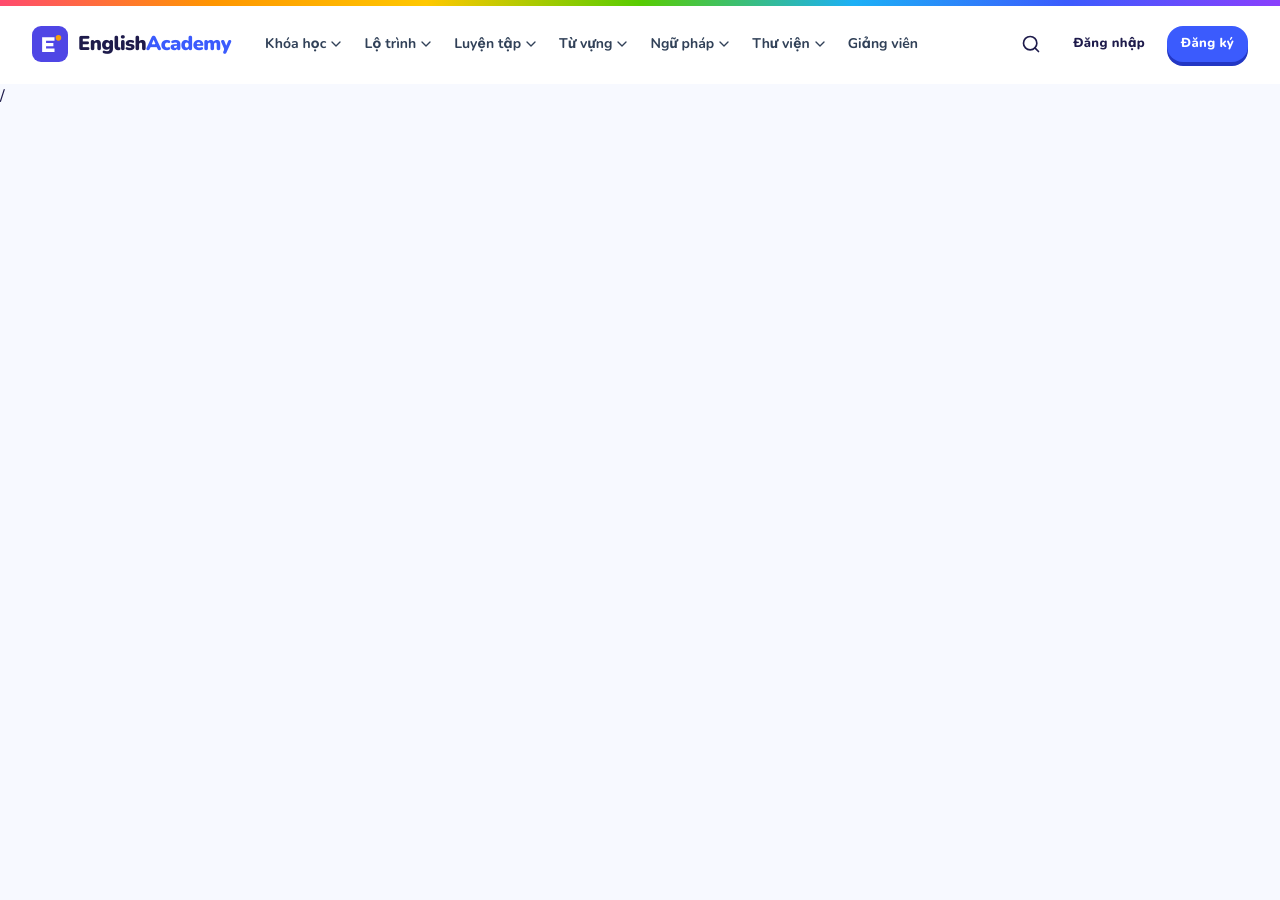
it: Header › đóng hộp tìm kiếm bằng Escape
Click the button named "Tìm kiếm": (1031, 44) [1011,24,1051,64]
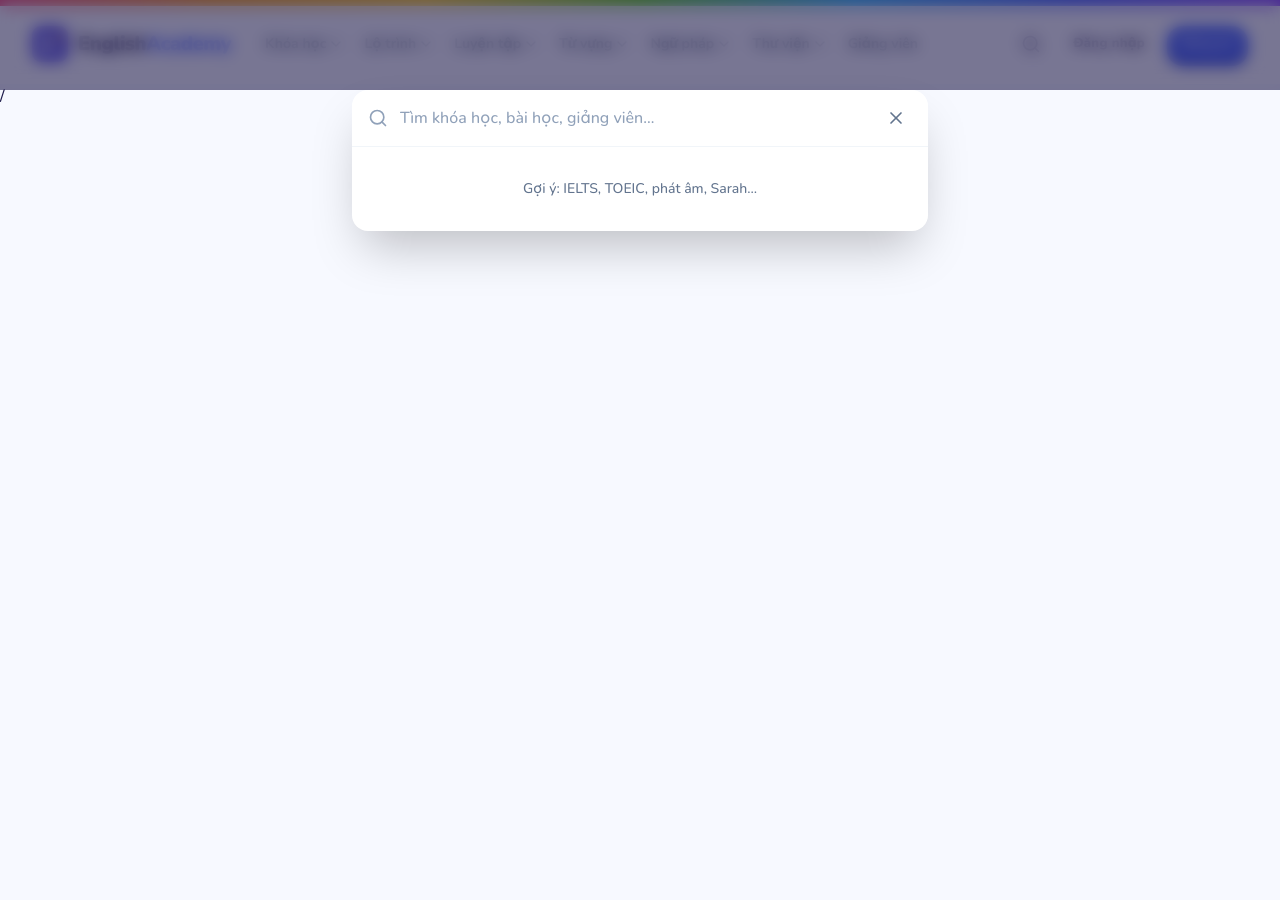
Check: the dialog is shown, box [352,90,928,231]
Press Escape
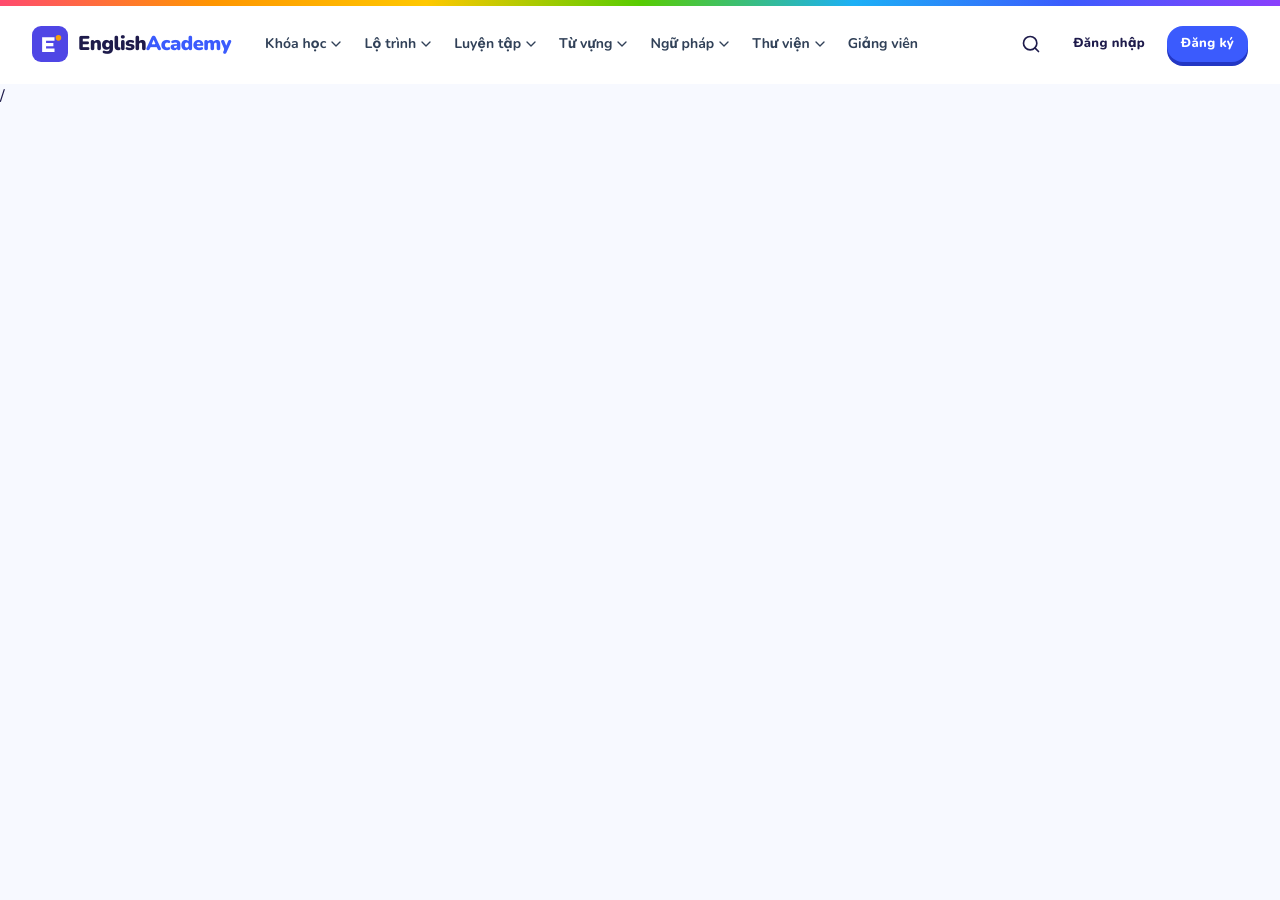
Check: the dialog is gone
